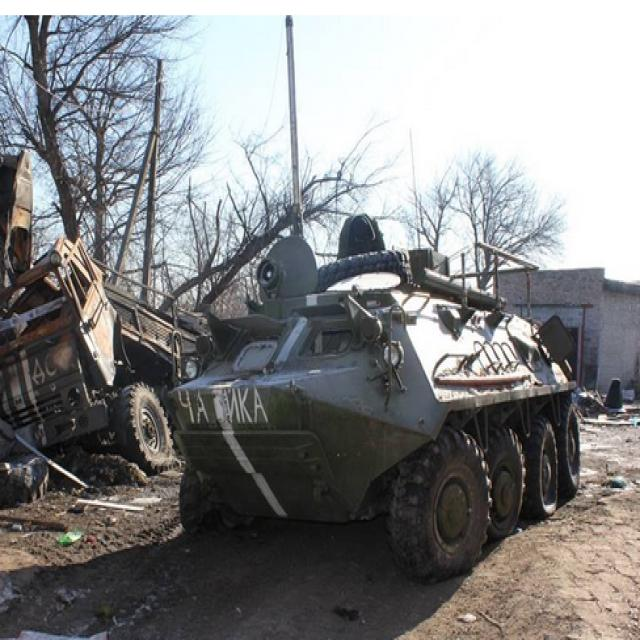MIL_APC: (142, 218, 612, 569)
